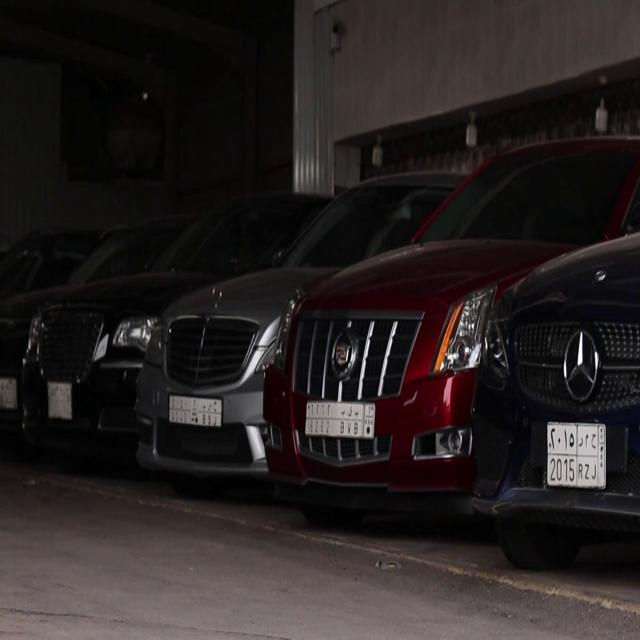license_plate: (541, 410, 609, 494), (165, 389, 223, 431)
